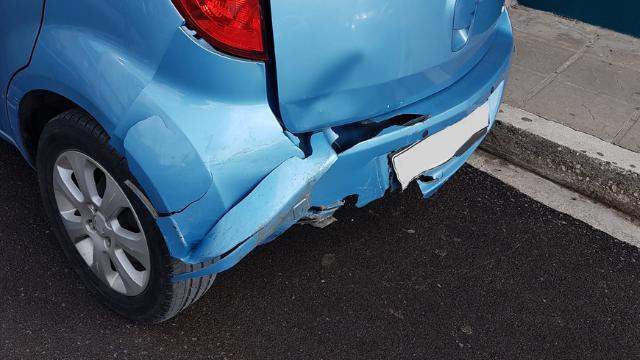Bumper: (105, 3, 511, 282)
